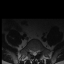CCS_normal: (33, 48, 35, 57)
LFS_normal: (37, 47, 39, 53)
LLS_normal: (35, 48, 37, 56)
RFS_normal: (29, 48, 31, 54)
RLS_normal: (31, 48, 33, 55)
